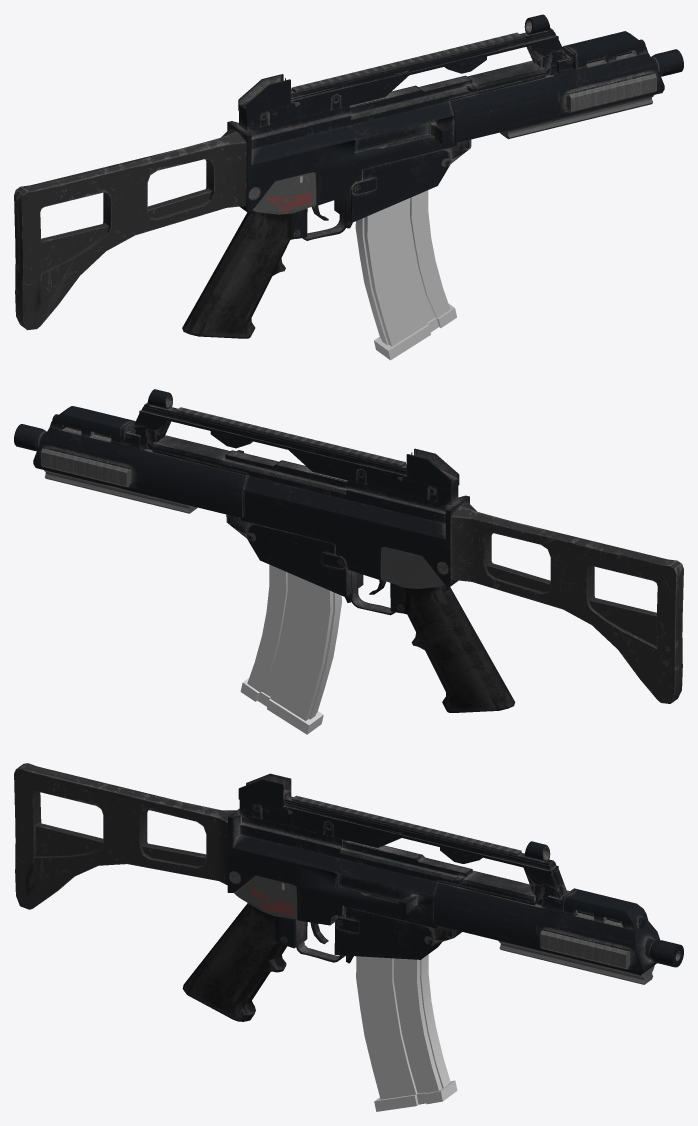
The picture shows the model from 3 angles, top to bottom: view 1: azimuth 30°, elevation 25°; view 2: azimuth 150°, elevation 25°; view 3: azimuth 330°, elevation 25°; orthographic projection.
Parts seen in each view (by area): view 1: G36, clip, Bolt; view 2: G36, clip; view 3: G36, clip, Bolt.
Boxes of the visible parts, x1=… form: G36: x1=14, y1=14, x2=683, y2=338; clip: x1=355, y1=190, x2=456, y2=360; Bolt: x1=354, y1=120, x2=448, y2=153; G36: x1=14, y1=389, x2=683, y2=712; clip: x1=240, y1=564, x2=341, y2=734; G36: x1=14, y1=763, x2=683, y2=1021; clip: x1=356, y1=954, x2=457, y2=1111; Bolt: x1=336, y1=874, x2=417, y2=914.
Bounding box in the file's own units: 87.86 × 38.48 × 8.53.
